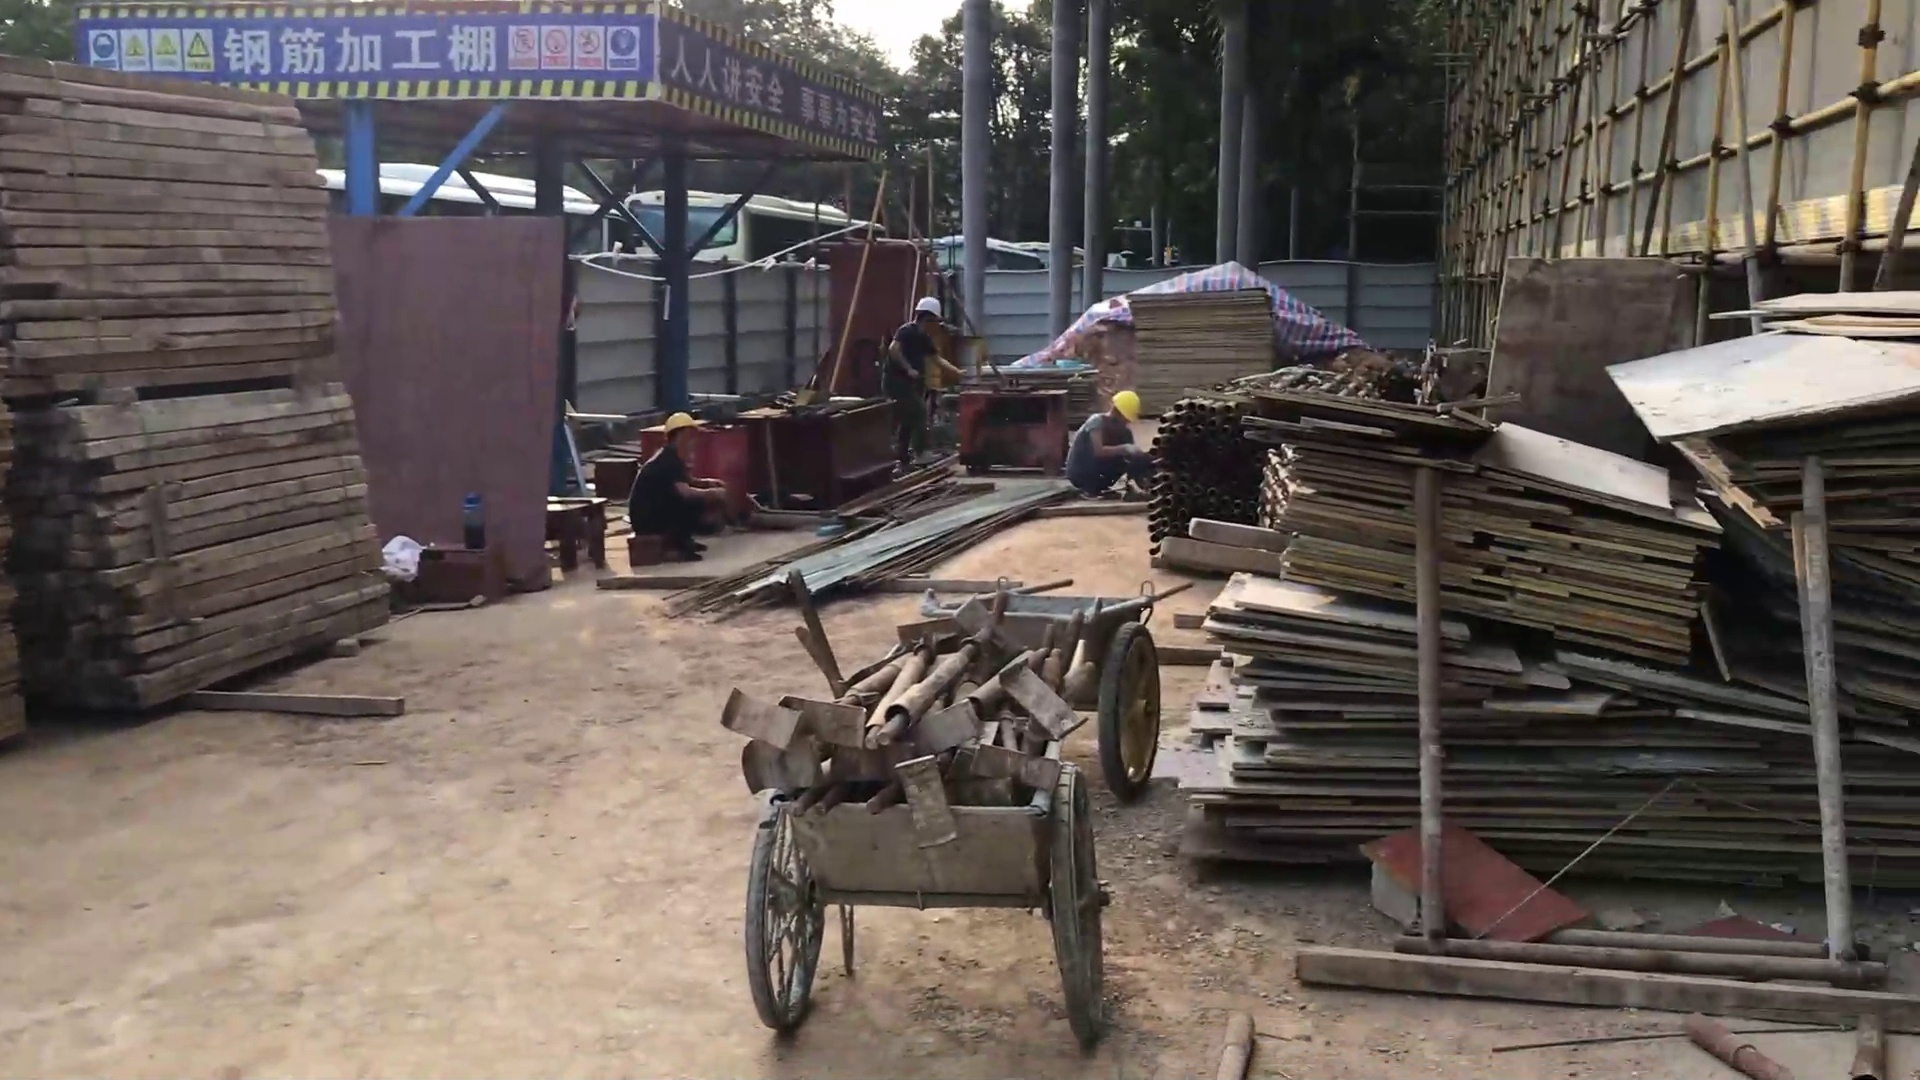board: (1210, 287, 1920, 890), (1126, 282, 1276, 415)
handcart: (742, 733, 1118, 1054), (922, 573, 1199, 804)
helmet: (659, 409, 700, 437), (1107, 388, 1140, 421), (914, 295, 942, 322)
person: (881, 293, 967, 478), (627, 410, 727, 564), (1063, 385, 1154, 504)
rebar: (684, 487, 1067, 620)
scaffold: (1145, 374, 1268, 549)
slogan: (83, 1, 658, 102), (660, 2, 883, 163)
wood: (1, 53, 388, 715)
